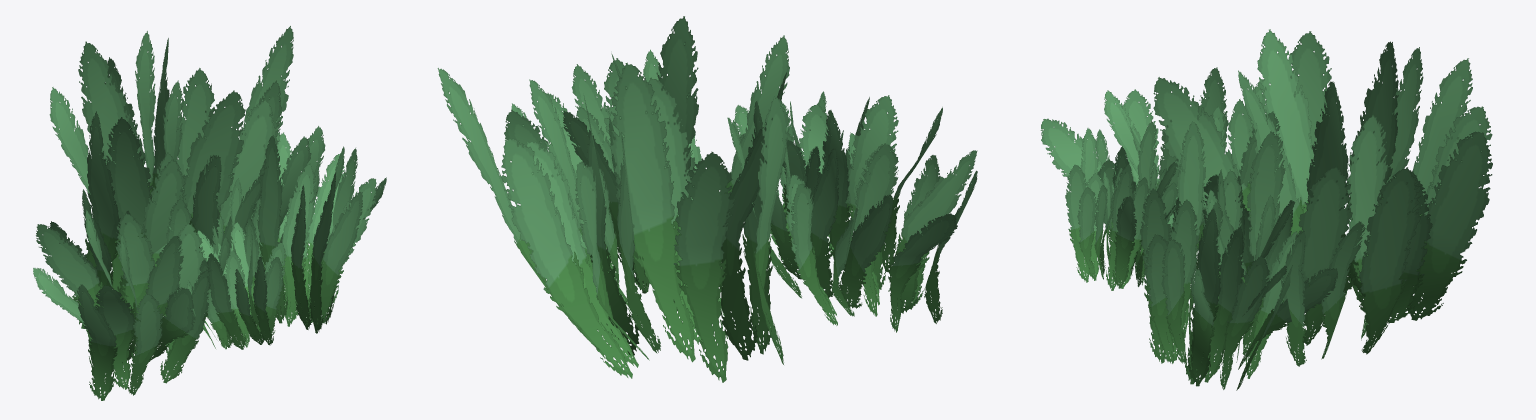
Rendered from Green Algae 5_preview_3DS_simplified.glb.
3 renders of one model, left to right at view 1: azimuth 30°, elevation 25°; view 2: azimuth 150°, elevation 25°; view 3: azimuth 270°, elevation 25°, orthographic. The views are drawn at different scales.
Visible parts, largest first — view 1: Marine Park Empire model; view 2: Marine Park Empire model; view 3: Marine Park Empire model.
Boxes of the visible parts, bbox=[...] form: Marine Park Empire model: bbox=[33, 26, 386, 400]; Marine Park Empire model: bbox=[437, 16, 977, 382]; Marine Park Empire model: bbox=[1040, 29, 1492, 390].
Size of the model in its own units: 184 by 130 by 187.
1 material, 1 textured.
